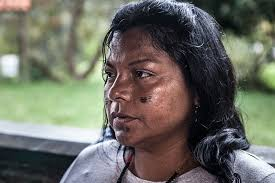black_female: (102, 21, 203, 146)
